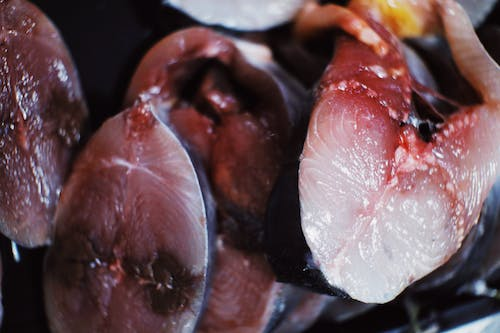blood: (297, 0, 500, 305), (121, 25, 314, 247), (42, 81, 209, 333), (0, 0, 91, 249), (192, 232, 339, 333)
